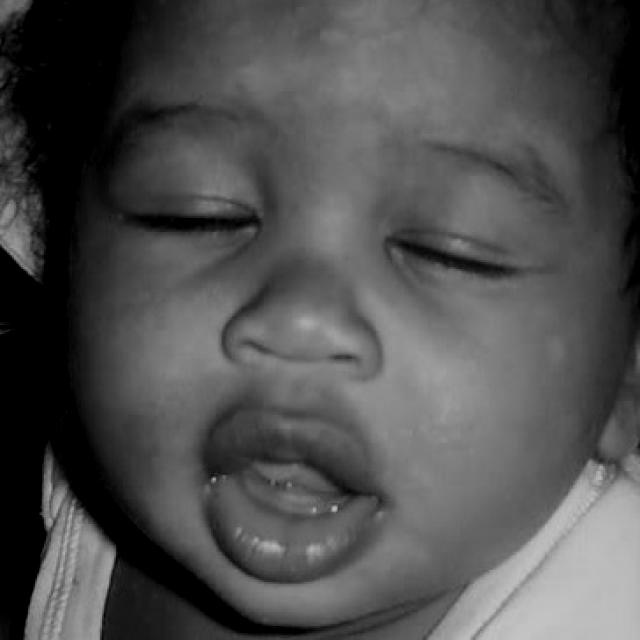real: (62, 0, 576, 578), (108, 141, 554, 298)
